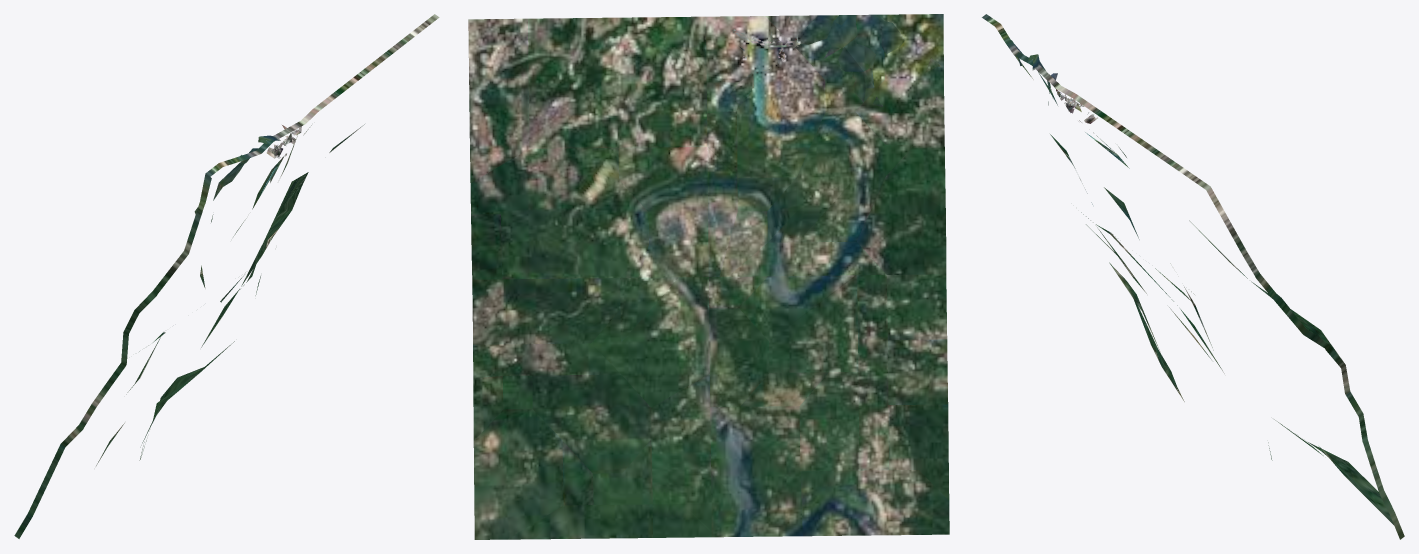
The picture shows the model from 3 angles, left to right: view 1: azimuth 30°, elevation 25°; view 2: azimuth 150°, elevation 25°; view 3: azimuth 270°, elevation 25°; orthographic projection. The views are drawn at different scales.
Bounding box in the file's own units: 5007 × 4505 × 4171.
1 material, 1 textured.
